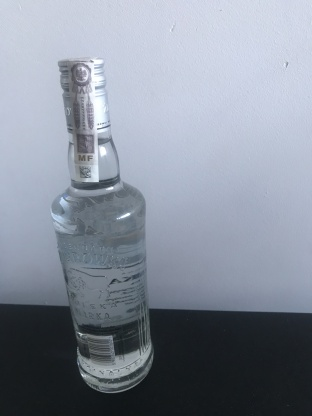nakretka: (56, 53, 112, 136)
